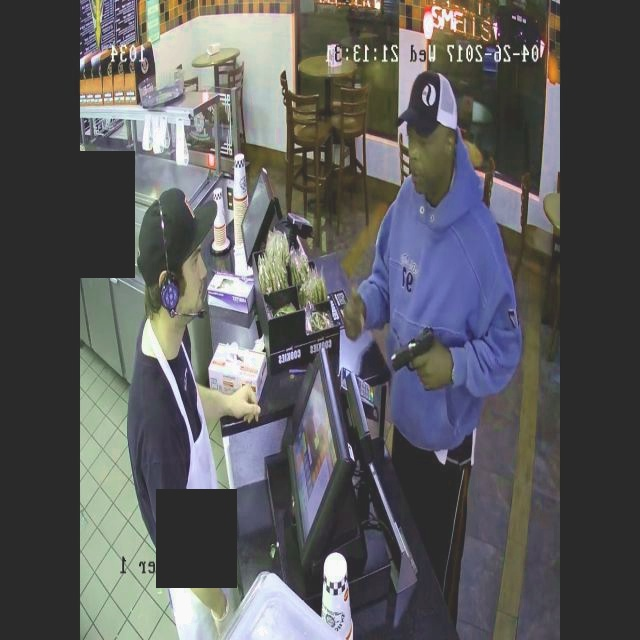gun: (377, 316, 454, 381)
